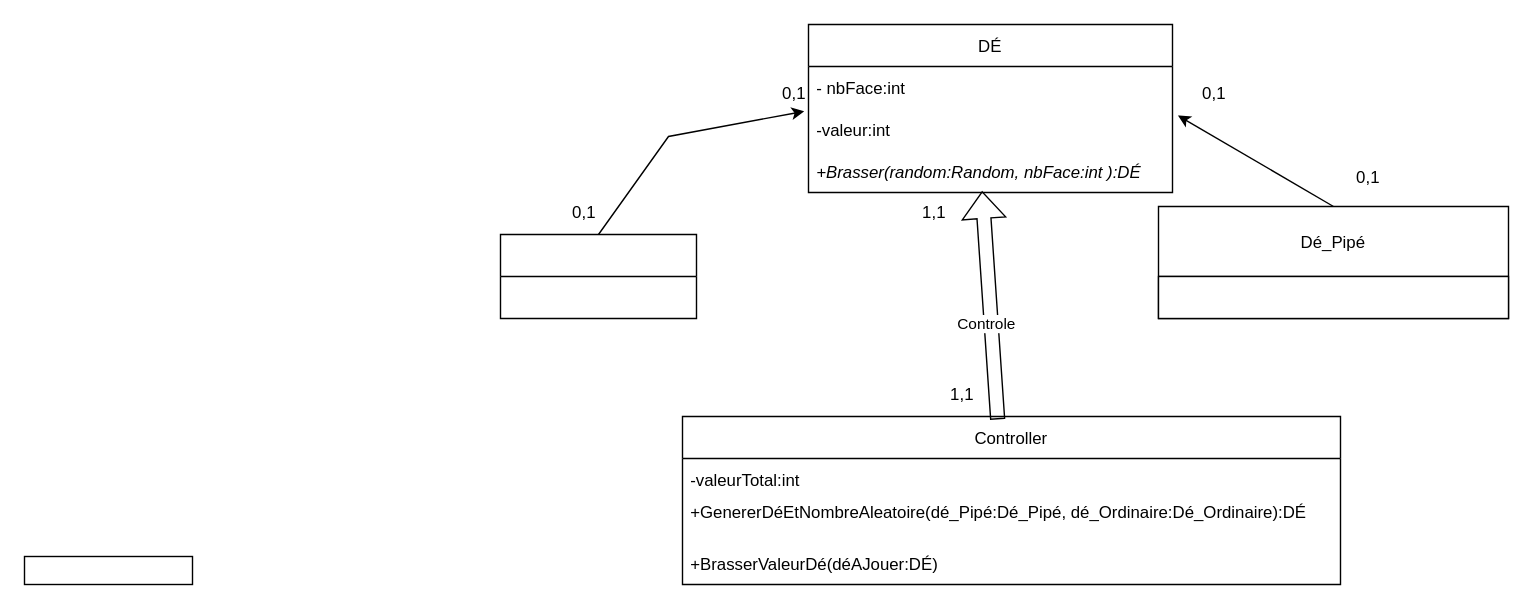
Image size: 1533x609. Some labels were removed from this diagram. Here are the shapes that lost their labels. From the top down, the centre of each, then its label:
At [597,275]: "Dé_Ordinaire".
At [1332,296]: "+Aléatoire(): int".
